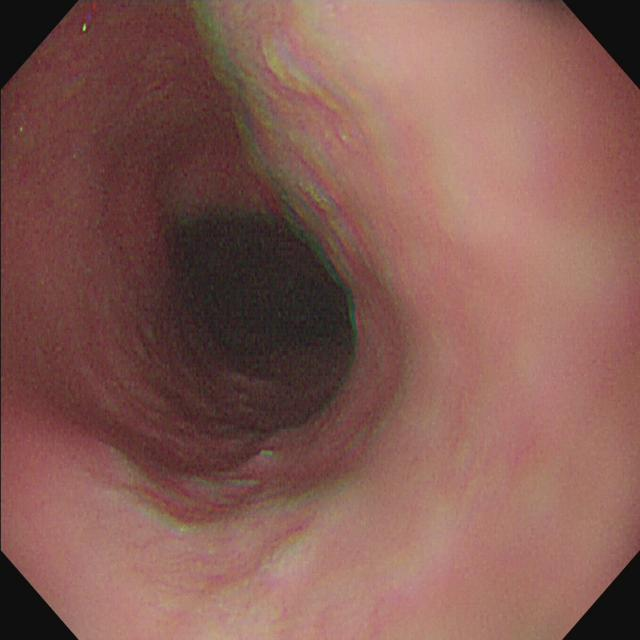E: (184, 222, 352, 371)
